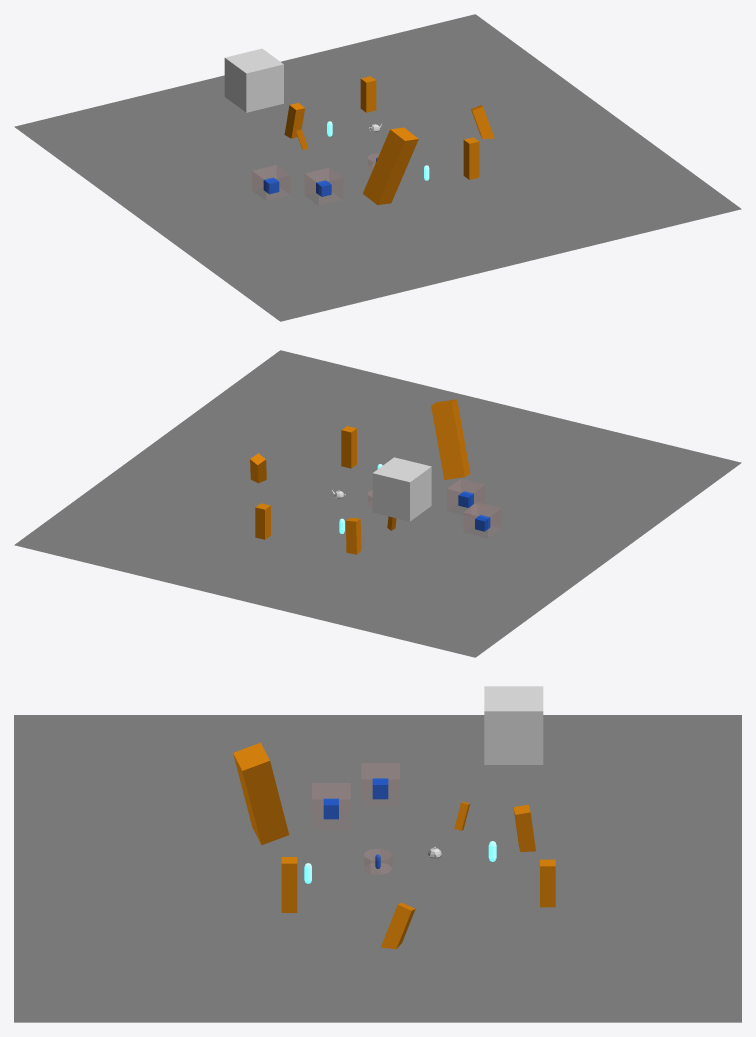
File: scene_components.gltf
3 views of the same model, one above another, from view 1: azimuth 30°, elevation 25°; view 2: azimuth 150°, elevation 25°; view 3: azimuth 270°, elevation 25° (orthographic). The views are drawn at different scales.
Visible parts, largest first — view 1: Ground, Pillar_geometry (×4), Cube, container_sensor (×2); view 2: Ground, Pillar_geometry (×4), Cube, container_sensor (×2); view 3: Ground, Pillar_geometry (×5), Cube, container_sensor (×2), player_sensor.
Part boxes in pixels (x1,y1,x2,y2): Ground: (14, 14, 741, 321); Pillar_geometry (×4): (284, 76, 479, 205); Cube: (224, 48, 283, 112); container_sensor (×2): (252, 165, 342, 204); Ground: (14, 350, 741, 657); Pillar_geometry (×4): (255, 399, 470, 554); Cube: (372, 457, 431, 521); container_sensor (×2): (447, 479, 501, 537); Ground: (14, 715, 741, 1022); Pillar_geometry (×5): (233, 742, 555, 949); Cube: (484, 686, 543, 764); container_sensor (×2): (312, 763, 399, 828); player_sensor: (364, 849, 392, 874).
Size of what is drawn, in the model's own units: 93.54 by 19.14 by 93.54.
